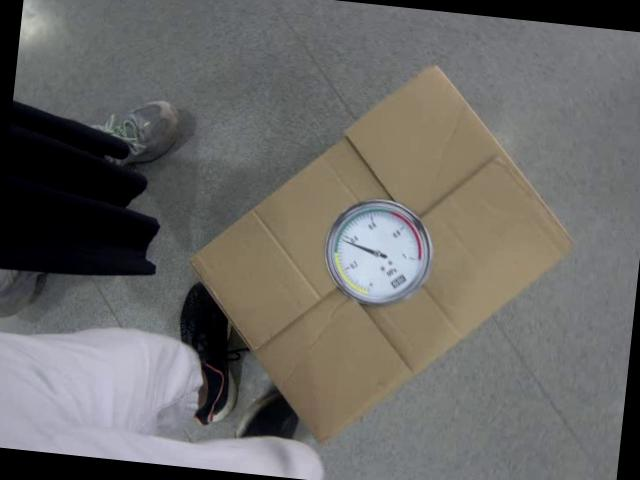Dashboard: (319, 194, 436, 310)
ssi: (388, 272, 406, 290)
